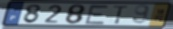2: (43, 4, 64, 24)
8: (64, 4, 87, 25), (23, 4, 43, 24)
9: (132, 4, 151, 26)
E: (84, 4, 111, 25)
T: (112, 5, 130, 25)
